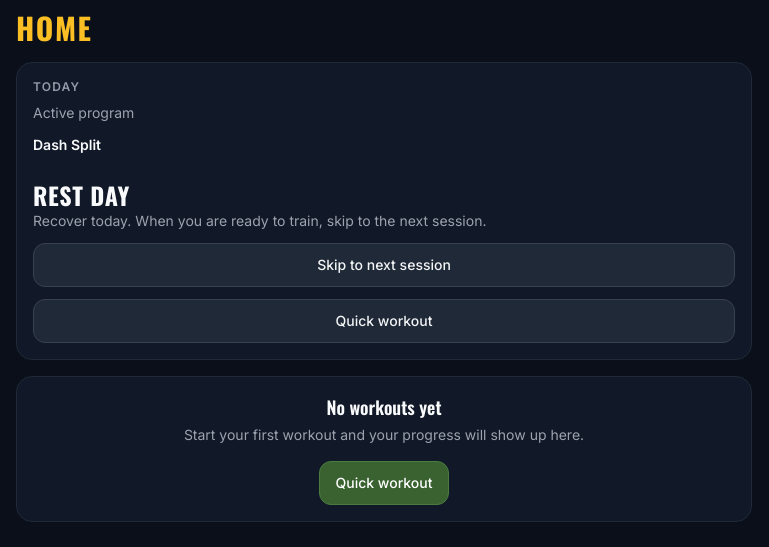
Test case: Dashboard — active program › shows a rest day and skipping it advances the rotation (live)
The image size is (769, 547).
Expected: the text with test id "dash-session-name" reads "Rest day", [33,177,130,213]
Step 1. Click the button with test id "dash-skip-rest" → click(384, 265), box [33,243,735,287]
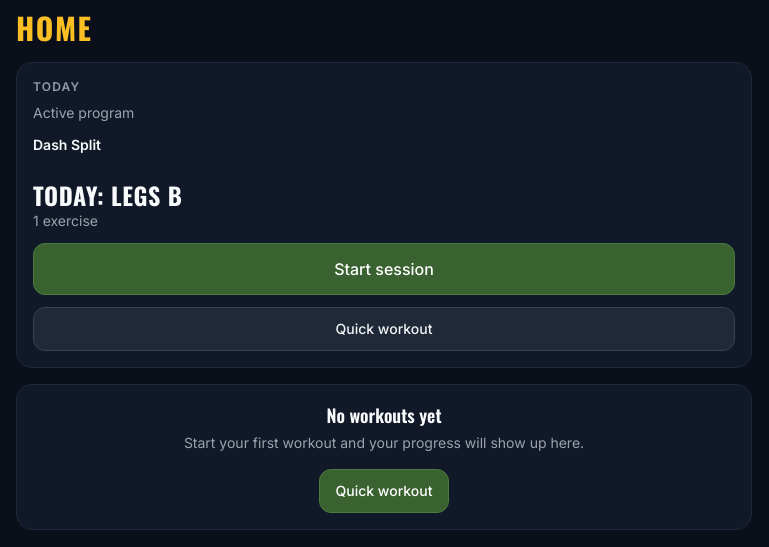
Expected: the text with test id "dash-session-name" reads "Today: Legs B", [33,177,182,213]
Expected: the text "1 exercise" is shown, [33,212,98,229]
